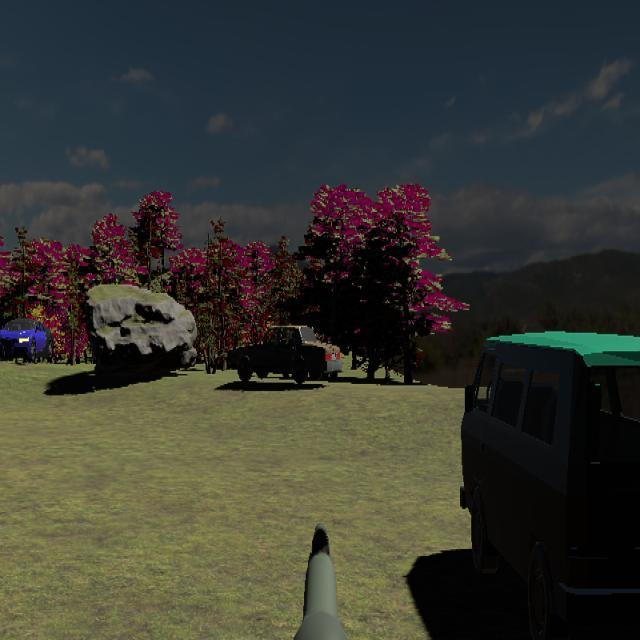car: (458, 332, 640, 637), (227, 323, 344, 384), (0, 317, 53, 363)
